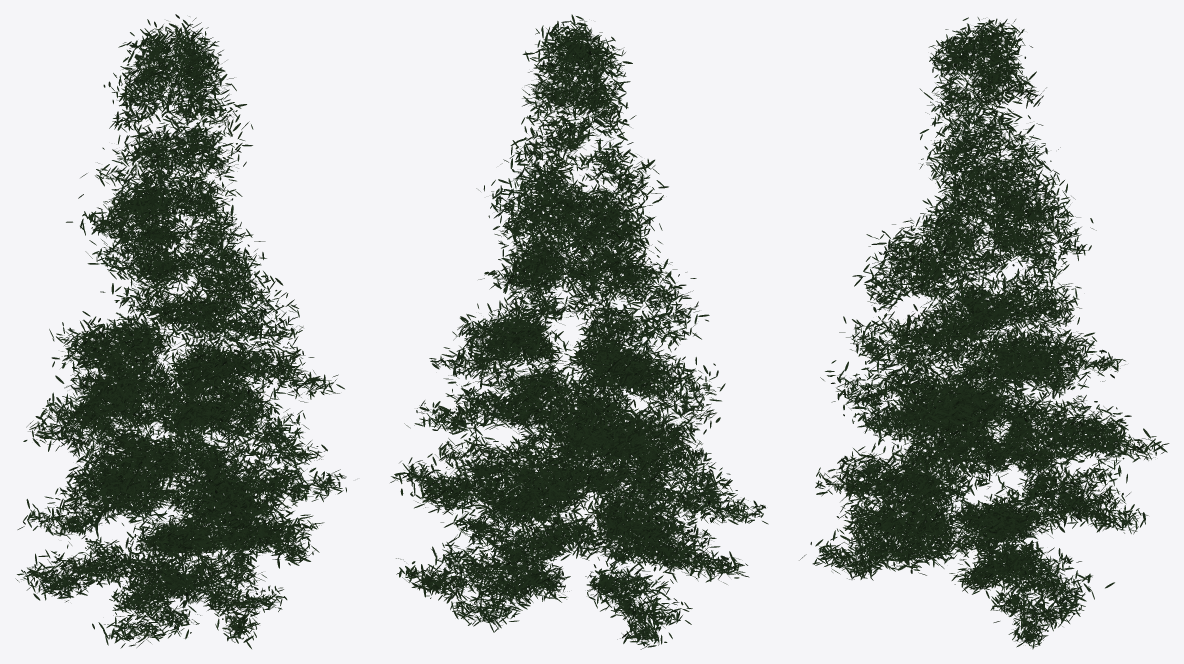
Rendered from landscape-tree-47-near.glb.
3 views of the same model, side by side, from view 1: azimuth 30°, elevation 25°; view 2: azimuth 150°, elevation 25°; view 3: azimuth 270°, elevation 25° (orthographic). The views are drawn at different scales.
Parts seen in each view (by area): view 1: V6 south conifer 05 needles near; view 2: V6 south conifer 05 needles near; view 3: V6 south conifer 05 needles near.
Part boxes in pixels (left/top/right/bottom): V6 south conifer 05 needles near: left=15, top=14, right=346, bottom=648; V6 south conifer 05 needles near: left=390, top=14, right=768, bottom=649; V6 south conifer 05 needles near: left=799, top=17, right=1169, bottom=649.
Bounding box in the file's own units: 5.43 × 9.4 × 5.52.
1 material, 1 textured.
